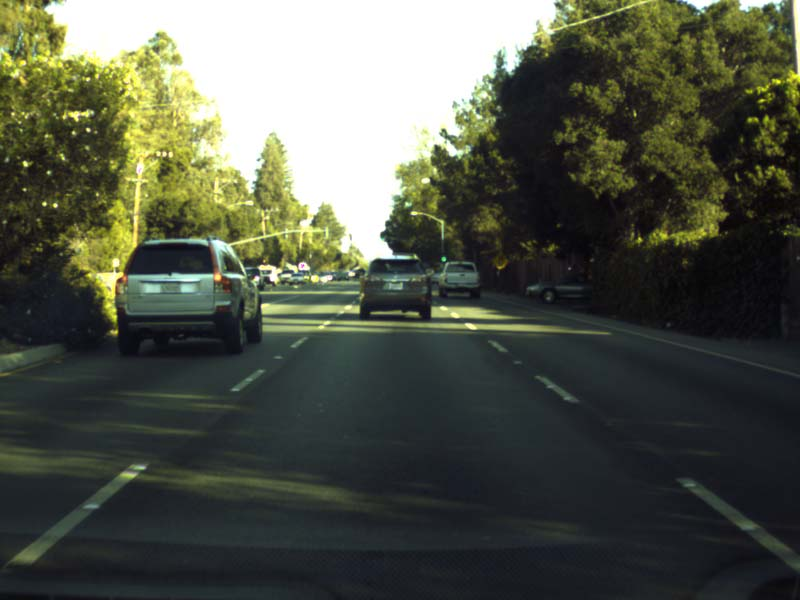Green: (440, 253, 447, 262)
